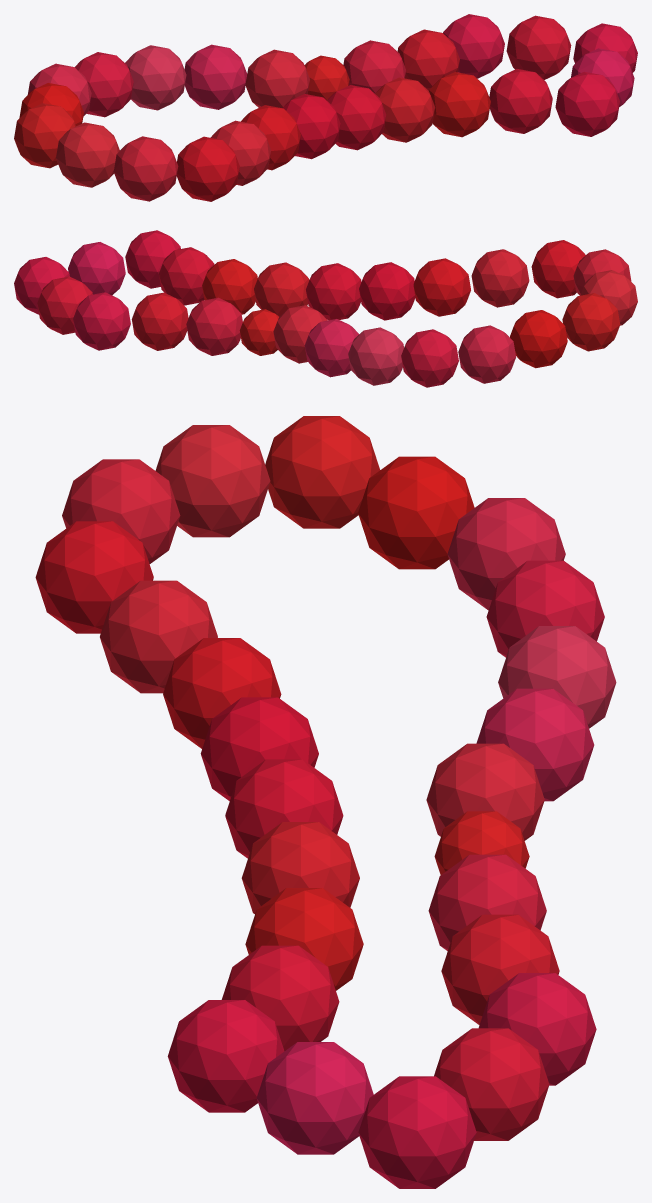
File: Bead$2.fbx
3 views of the same model, one above another, from view 1: azimuth 30°, elevation 25°; view 2: azimuth 150°, elevation 25°; view 3: azimuth 270°, elevation 25° (orthographic). The views are drawn at different scales.
Visible parts, largest first — view 1: Icosphere.024; view 2: Icosphere.024; view 3: Icosphere.024.
Part boxes in pixels (<box>): Icosphere.024: <box>14,14,637,201</box>; Icosphere.024: <box>14,230,637,387</box>; Icosphere.024: <box>35,416,616,1188</box>.
Bounding box in the file's own units: 1388 × 297 × 609.
